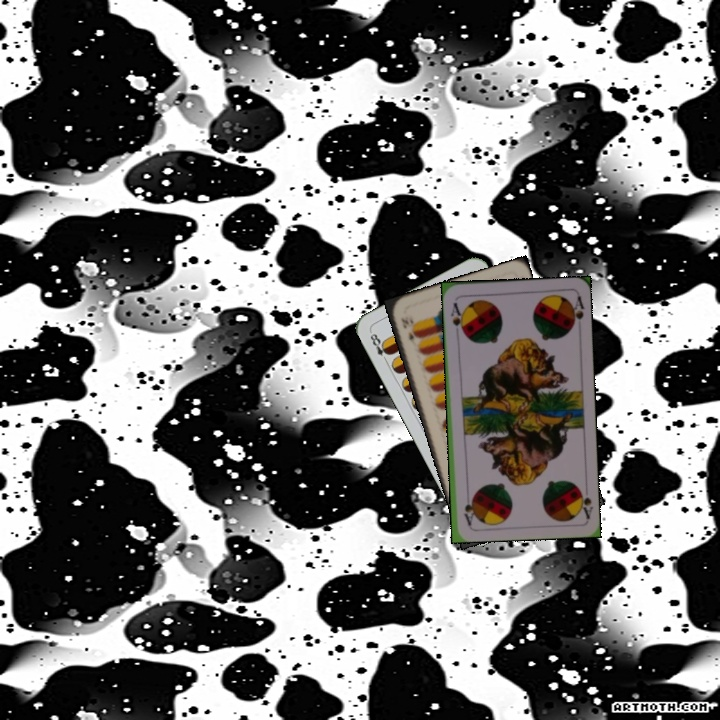E10: (397, 313, 419, 349)
E8: (366, 328, 393, 365)
SA: (574, 482, 595, 521), (447, 299, 466, 336)
